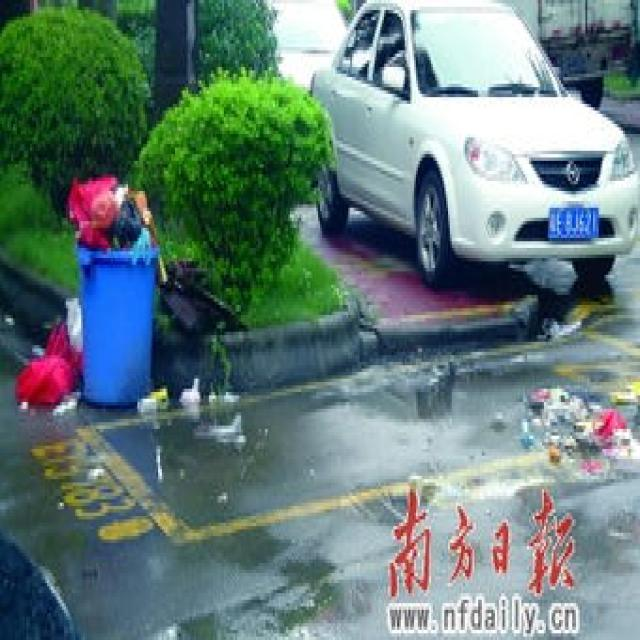garbage: (134, 375, 246, 479), (520, 378, 638, 476), (11, 292, 81, 416)
overflow: (66, 168, 158, 402)
